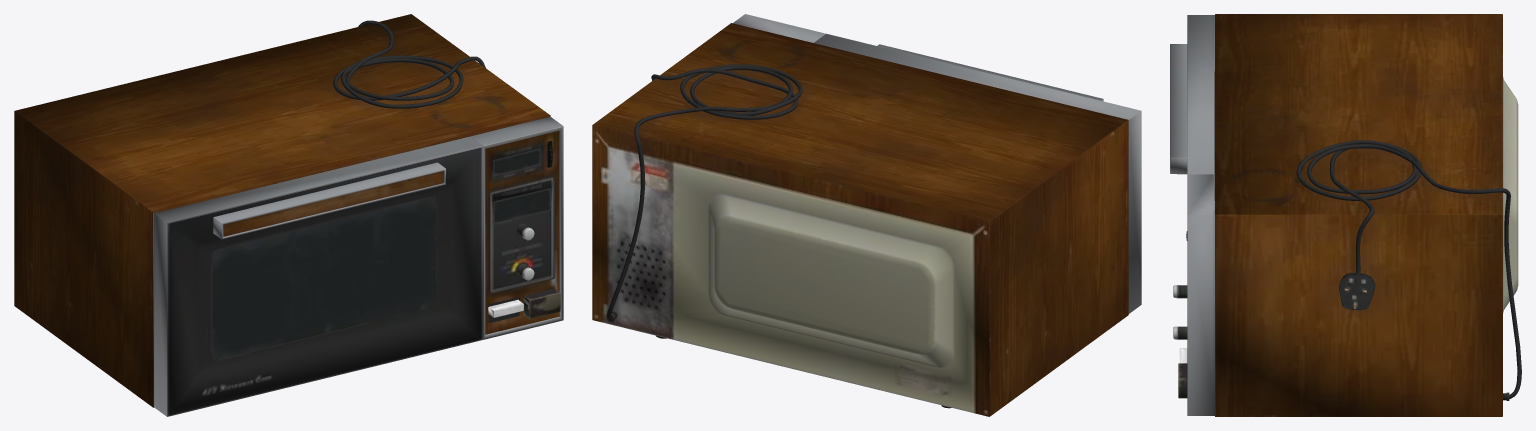
The model's file is microwave.glb.
3 views of the same model, side by side, from view 1: azimuth 30°, elevation 25°; view 2: azimuth 150°, elevation 25°; view 3: azimuth 270°, elevation 25° (orthographic). The views are drawn at different scales.
Visible parts, largest first — view 1: vintage_microwave; view 2: vintage_microwave; view 3: vintage_microwave.
Boxes of the visible parts, left/top/right/bottom form: vintage_microwave: left=14, top=14, right=563, bottom=416; vintage_microwave: left=592, top=14, right=1141, bottom=416; vintage_microwave: left=1170, top=14, right=1521, bottom=416.
Bounding box in the file's own units: 1.07 × 0.5257 × 0.7455.
Materials: 2 (2 with a texture image).
